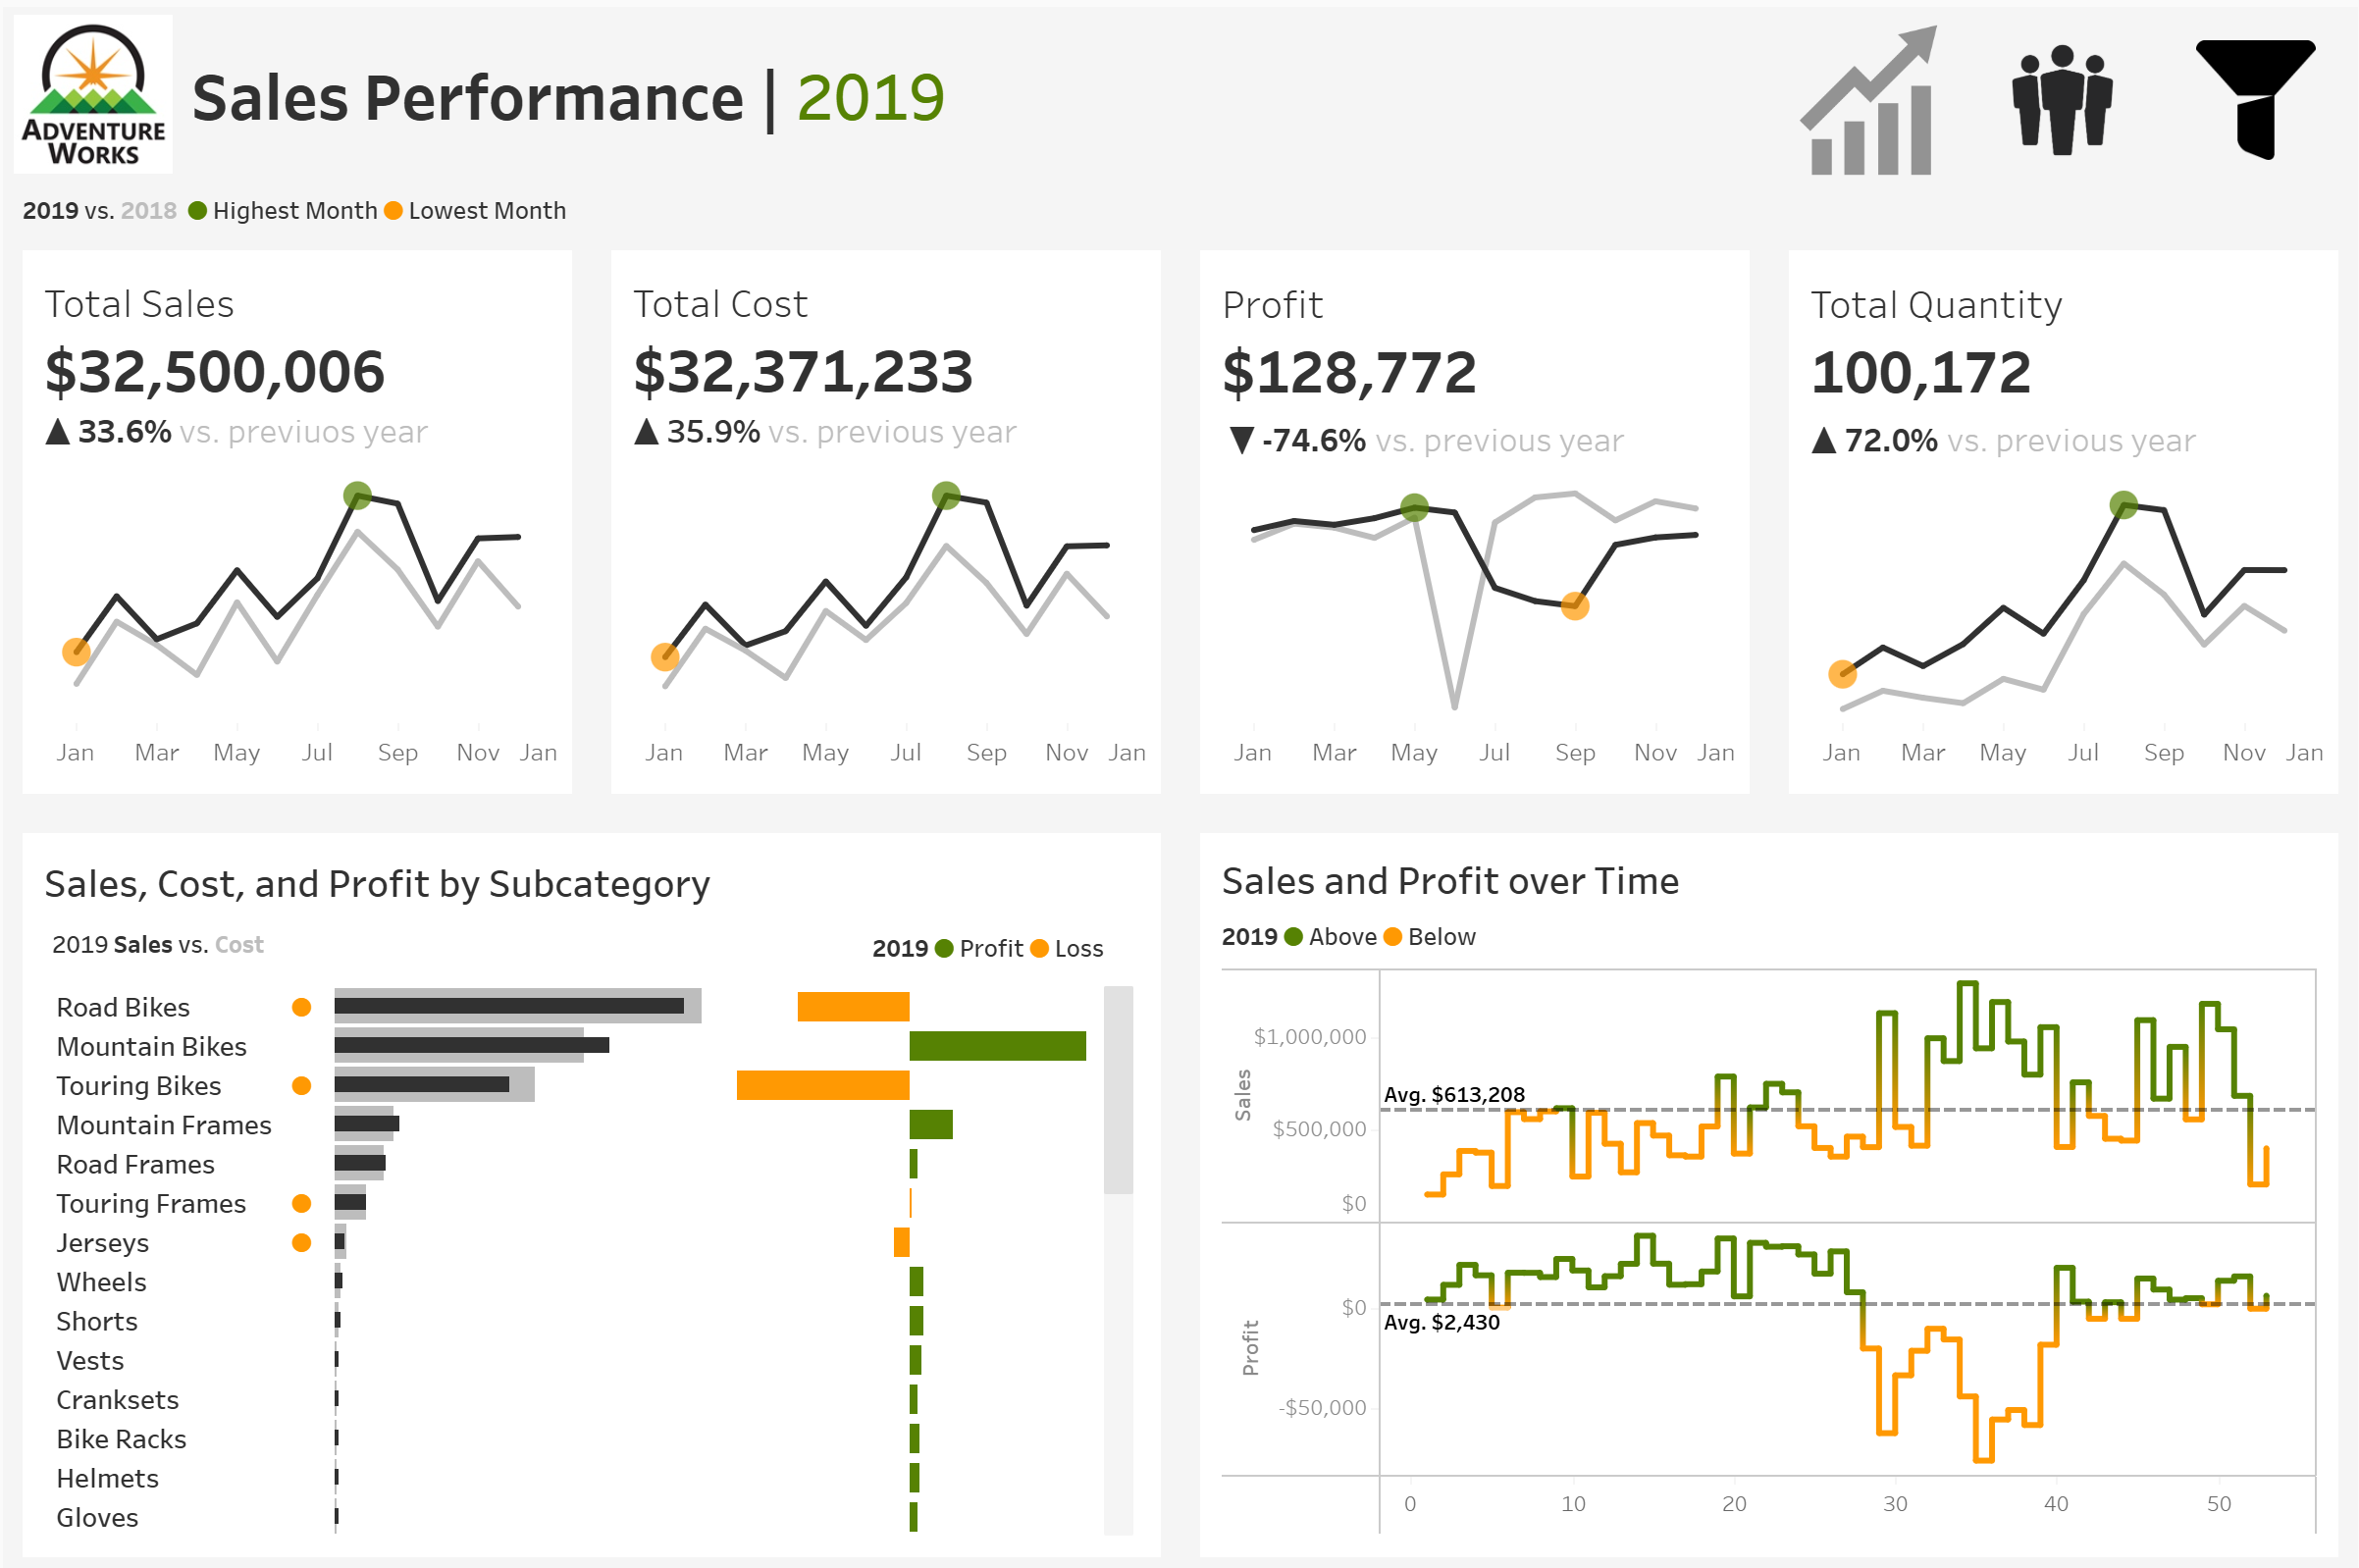

Layout of this report page (visuals, bound fields, positions):
{"tool":"tableau","page":{"name":"Sales Performance","canvas":[1200,800],"ordinal":0},"visuals":[{"type":"image","param":"Image/adventure-works-logo-150x150.png","box":[0,0,92,89]},{"type":"text","box":[92,0,810,89]},{"type":"dashboard-object","box":[901,3,99,89]},{"type":"dashboard-object","box":[1000,3,99,89]},{"type":"dashboard-object","box":[1099,3,98,89]},{"type":"worksheet","title":"KPI Legend","mark":"Automatic","box":[0,89,1200,35]},{"type":"worksheet","title":"KPI TotalSales","mark":"Automatic","rows":["Calculation_637822321673912324"],"cols":["OrderDate"],"box":[0,124,300,287]},{"type":"worksheet","title":"KPI TotalCost","mark":"Automatic","rows":["Min/Max Quantity (copy)_321725925577129986"],"cols":["OrderDate"],"box":[300,124,300,287]},{"type":"worksheet","title":"KPI Profit","mark":"Automatic","rows":["Calculation_1086211960203542535"],"cols":["OrderDate"],"box":[600,124,300,287]},{"type":"worksheet","title":"KPI TotalQuantity","mark":"Automatic","rows":["Min/Max Sales (copy)_1086211960215871503"],"cols":["OrderDate"],"box":[900,124,300,287]},{"type":"text","box":[911,133,278,34]},{"type":"parameter","param":"[Parameters].[Parameter 1]","box":[911,167,278,52]},{"type":"text","box":[911,219,278,29]},{"type":"filter","title":"KPI TotalSales","param":"[federated.19656wq0sp28k8121jykm1is45cl].[none:Category:nk]","box":[911,248,278,108]},{"type":"filter","title":"KPI TotalSales","param":"[federated.19656wq0sp28k8121jykm1is45cl].[none:Subcategory:nk]","box":[911,356,278,52]},{"type":"blank","box":[911,408,278,53]},{"type":"text","box":[17,428,566,34]},{"type":"text","box":[617,428,566,32]},{"type":"text","box":[617,460,566,25]},{"type":"text","box":[911,461,278,29]},{"type":"worksheet","title":"Chart Legend","mark":"Automatic","box":[17,462,422,32]},{"type":"text","box":[439,462,144,32]},{"type":"worksheet","title":"Sales&Profit Trends","mark":"Automatic","rows":["Calculation_637822321648697344","Calculation_1086211960186269697"],"cols":["OrderDate"],"box":[617,485,566,298]},{"type":"filter","title":"KPI TotalSales","param":"[federated.19656wq0sp28k8121jykm1is45cl].[none:Group:nk]","box":[911,490,278,89]},{"type":"worksheet","title":"Subcategories","mark":"Bar","rows":["Subcategory","Calculation_321725925611114503"],"cols":["Current Year Cost (copy)_321725925613584392","Calculation_637822321648697344","Calculation_1086211960186269697"],"box":[17,494,566,289]},{"type":"filter","title":"KPI TotalSales","param":"[federated.19656wq0sp28k8121jykm1is45cl].[none:Country:nk]","box":[911,579,278,52]},{"type":"filter","title":"KPI TotalSales","param":"[federated.19656wq0sp28k8121jykm1is45cl].[none:Region:nk]","box":[911,631,278,52]}]}

Visuals, with their boxes in screenshot pixels (x1, y1, x2, y2), scaled from the page's 1200x800 canvas onto the 2359x1568 screenshot:
image: x1=0 y1=0 x2=181 y2=175
text: x1=181 y1=0 x2=1773 y2=175
dashboard-object: x1=1771 y1=6 x2=1966 y2=181
dashboard-object: x1=1966 y1=6 x2=2161 y2=181
dashboard-object: x1=2161 y1=6 x2=2353 y2=181
"KPI Legend" worksheet: x1=0 y1=175 x2=2358 y2=243
"KPI TotalSales" worksheet: x1=0 y1=243 x2=590 y2=806
"KPI TotalCost" worksheet: x1=590 y1=243 x2=1179 y2=806
"KPI Profit" worksheet: x1=1179 y1=243 x2=1769 y2=806
"KPI TotalQuantity" worksheet: x1=1769 y1=243 x2=2358 y2=806
text: x1=1791 y1=261 x2=2337 y2=328
parameter: x1=1791 y1=328 x2=2337 y2=429
text: x1=1791 y1=429 x2=2337 y2=486
"KPI TotalSales" filter: x1=1791 y1=486 x2=2337 y2=698
"KPI TotalSales" filter: x1=1791 y1=698 x2=2337 y2=800
blank: x1=1791 y1=800 x2=2337 y2=904
text: x1=33 y1=839 x2=1146 y2=906
text: x1=1213 y1=839 x2=2326 y2=902
text: x1=1213 y1=902 x2=2326 y2=951
text: x1=1791 y1=904 x2=2337 y2=961
"Chart Legend" worksheet: x1=33 y1=906 x2=863 y2=968
text: x1=863 y1=906 x2=1146 y2=968
"Sales&Profit Trends" worksheet: x1=1213 y1=951 x2=2326 y2=1535
"KPI TotalSales" filter: x1=1791 y1=961 x2=2337 y2=1135
"Subcategories" worksheet (Bar marks): x1=33 y1=968 x2=1146 y2=1535
"KPI TotalSales" filter: x1=1791 y1=1135 x2=2337 y2=1236
"KPI TotalSales" filter: x1=1791 y1=1236 x2=2337 y2=1338
